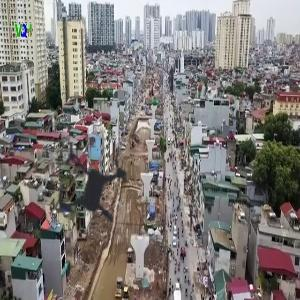drone: (7, 98, 187, 278)
